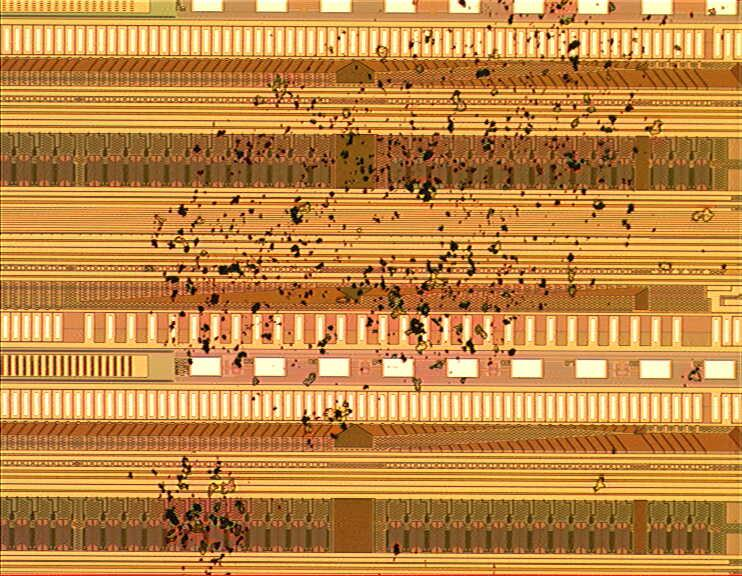PO CONTAMINATION: (124, 1, 736, 576)
